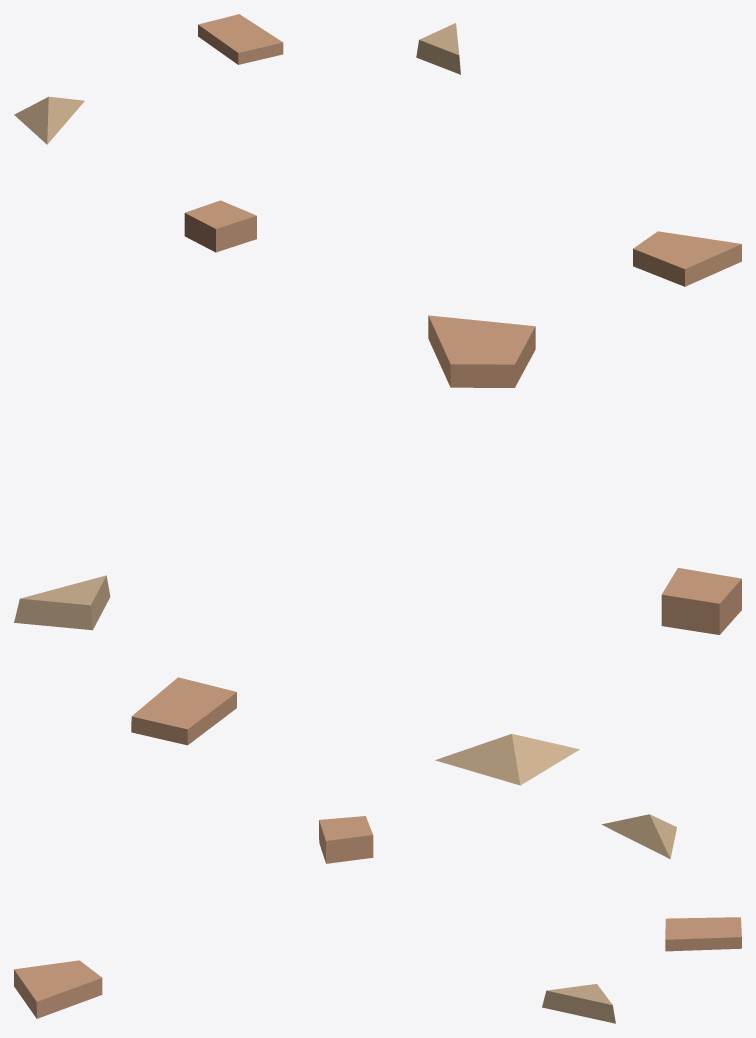
Rendered from Rocks_Flat_s_04.fbx.
3 views of the same model, one above another, from view 1: azimuth 30°, elevation 25°; view 2: azimuth 150°, elevation 25°; view 3: azimuth 270°, elevation 25° (orthographic). The views are drawn at different scales.
Visible parts, largest first — view 1: Rocks_Flat_s_04; view 2: Rocks_Flat_s_04; view 3: Rocks_Flat_s_04.
Boxes of the visible parts, x1,y1,x2,y2 form: Rocks_Flat_s_04: (14, 14, 741, 286); Rocks_Flat_s_04: (14, 315, 741, 785); Rocks_Flat_s_04: (14, 814, 741, 1023).
Size of the model in its own units: 63.23 by 4.46 by 98.22.
